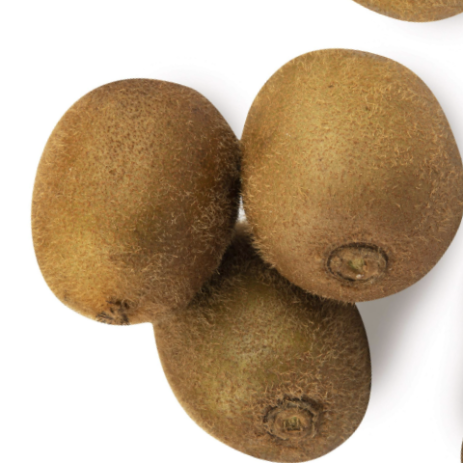kiwi: (180, 4, 463, 355), (0, 25, 282, 357), (128, 195, 437, 463)
